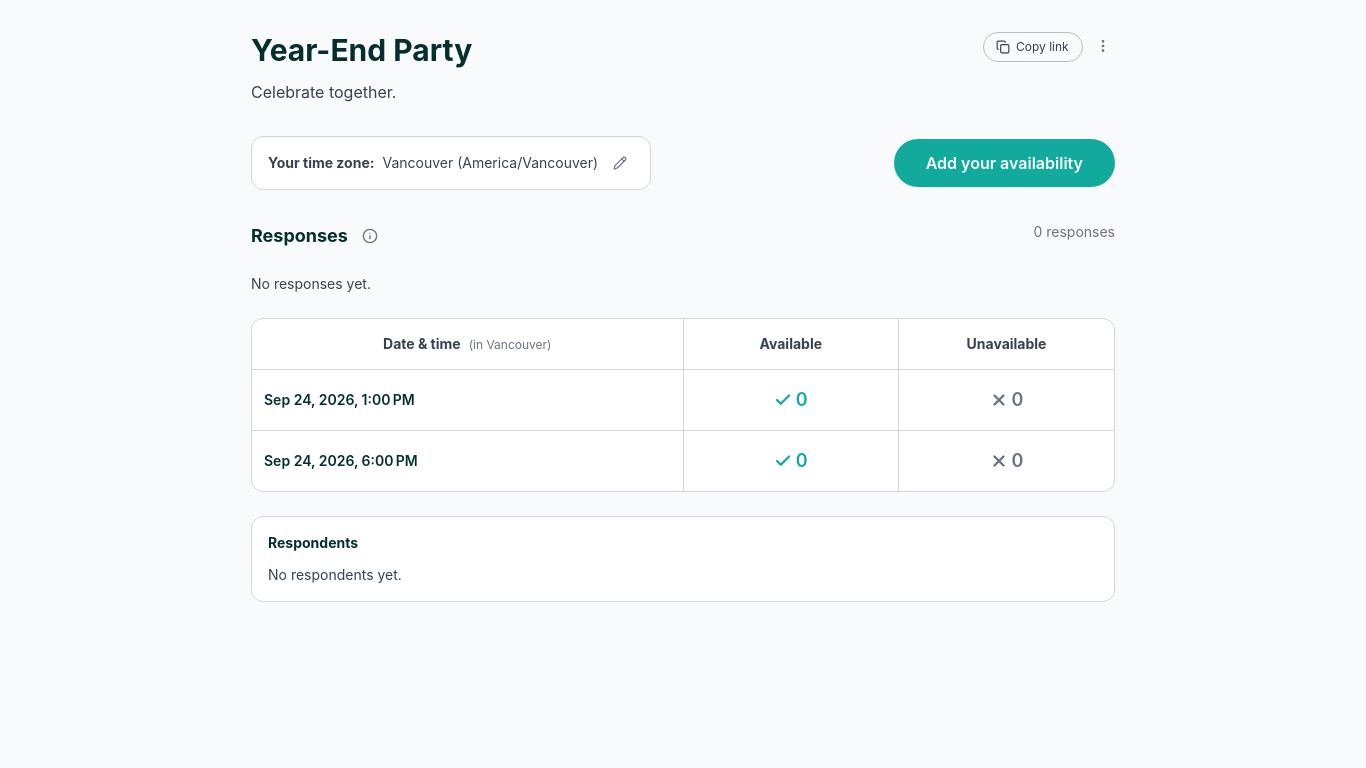
Scenario: EventDetailPage › opens event management actions separately
Click the button named "Event actions".
click(1103, 46)  # box [1091, 34, 1115, 58]
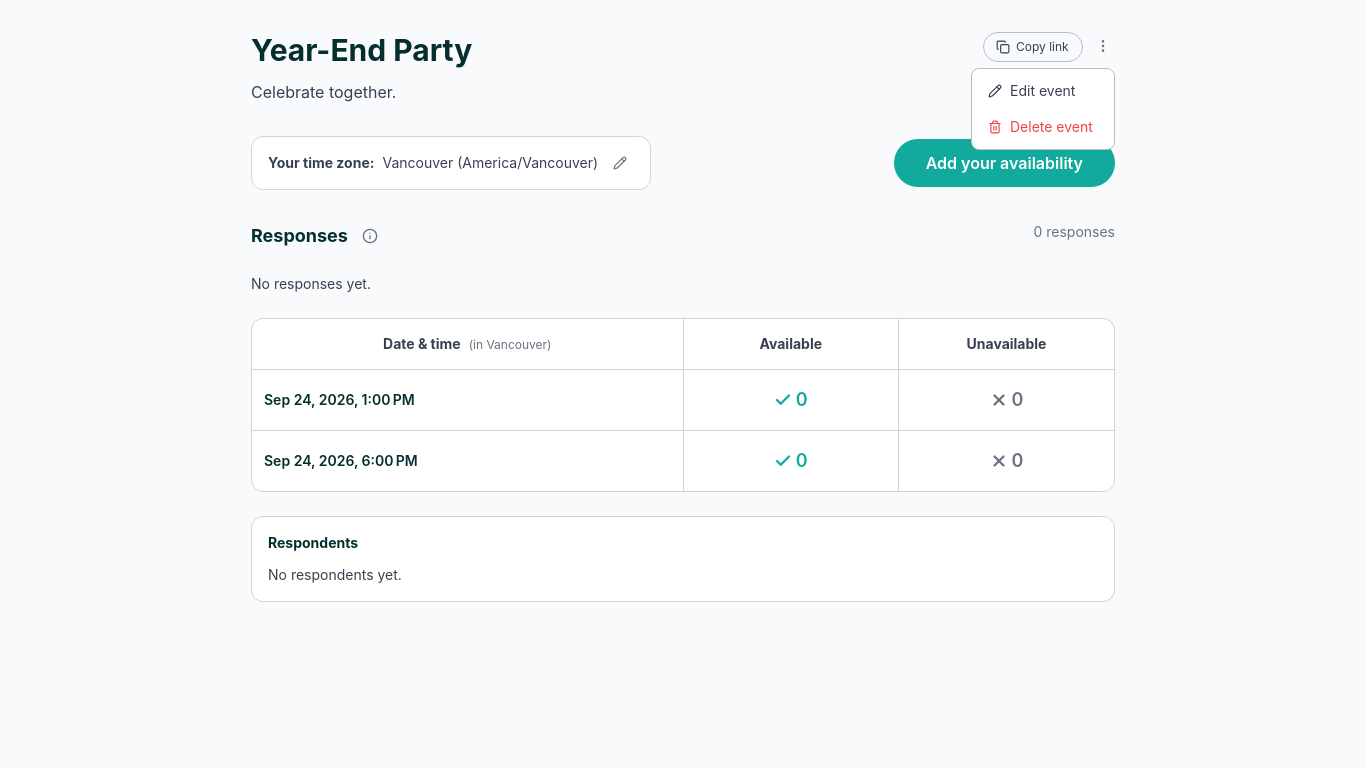
Expected: the menu item "Edit event" is shown, [976, 73, 1110, 109]
Expected: the menu item "Delete event" is shown
Click the menu item "Delete event".
click(1043, 127)  # box [976, 109, 1110, 145]
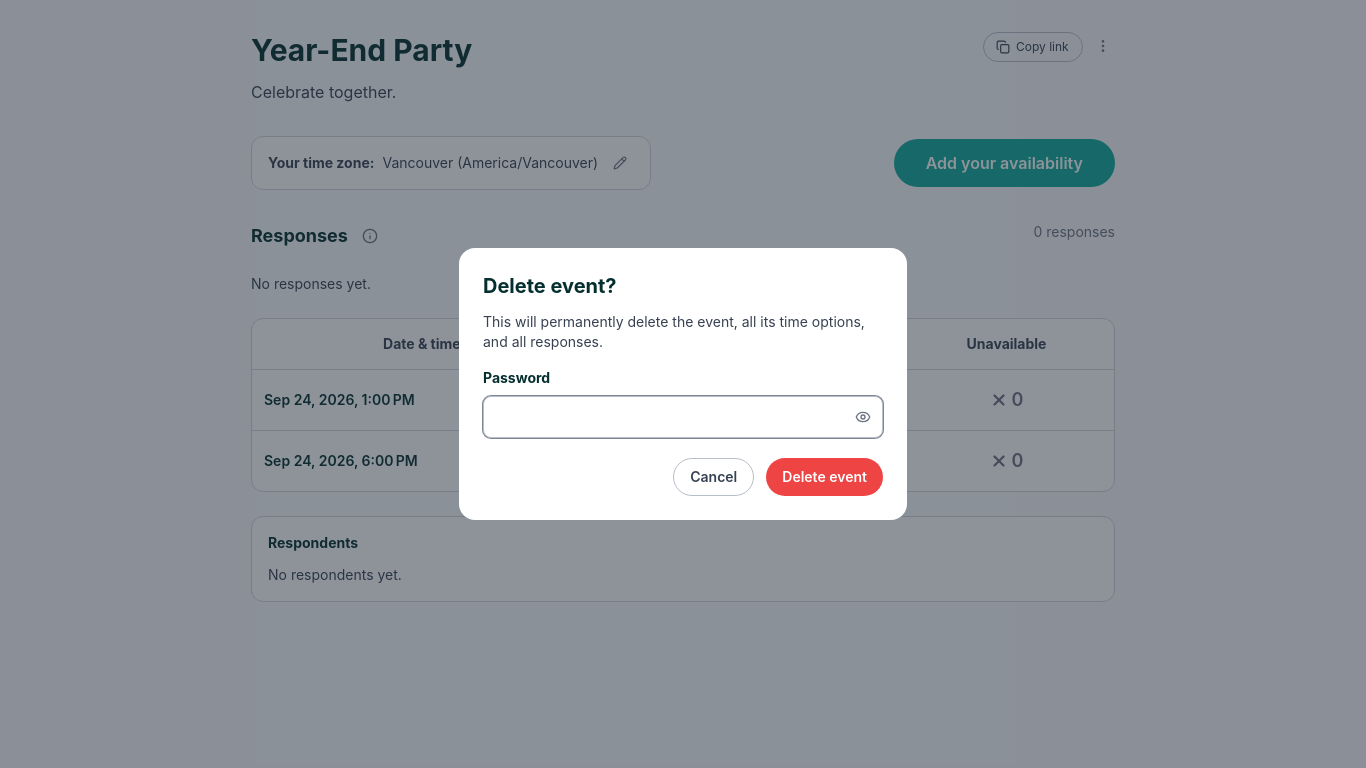
Expected: the dialog "Delete event?" is shown, [459, 248, 907, 520]
